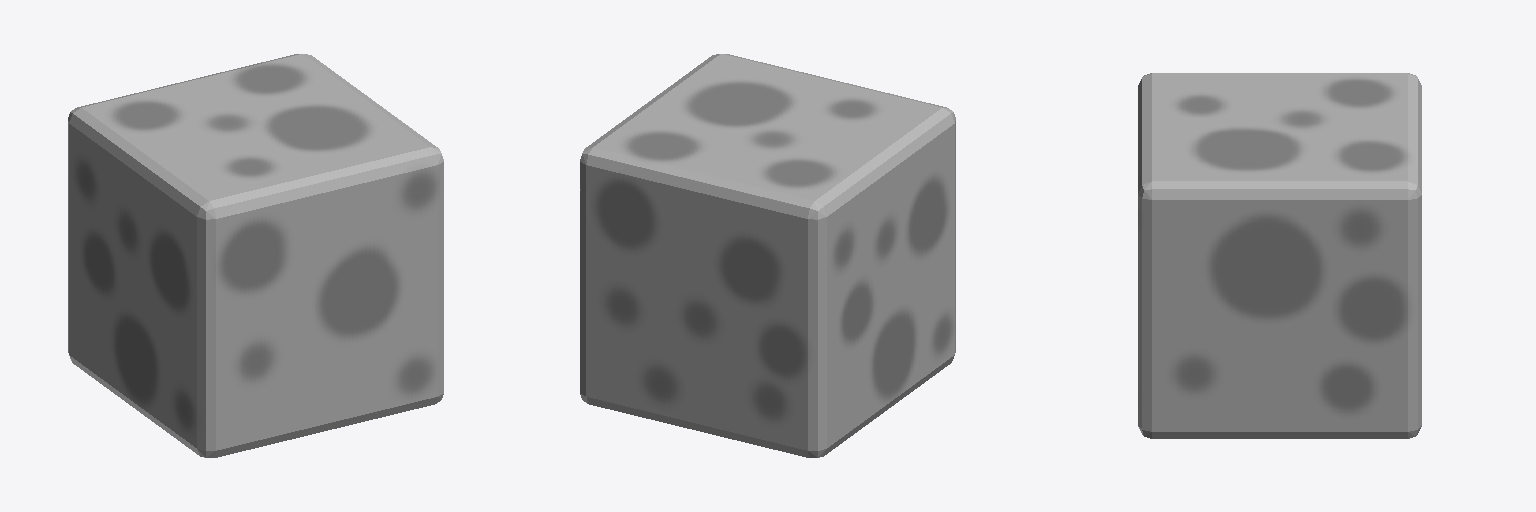
3 renders of one model, left to right at view 1: azimuth 30°, elevation 25°; view 2: azimuth 150°, elevation 25°; view 3: azimuth 270°, elevation 25°, orthographic.
Parts seen in each view (by area): view 1: Cube; view 2: Cube; view 3: Cube.
Boxes of the visible parts, <box> form: Cube: <box>68,54,443,457</box>; Cube: <box>580,54,955,457</box>; Cube: <box>1138,73,1421,438</box>.
Size of the model in its own units: 2 by 2 by 2.
1 materials, 1 textured.